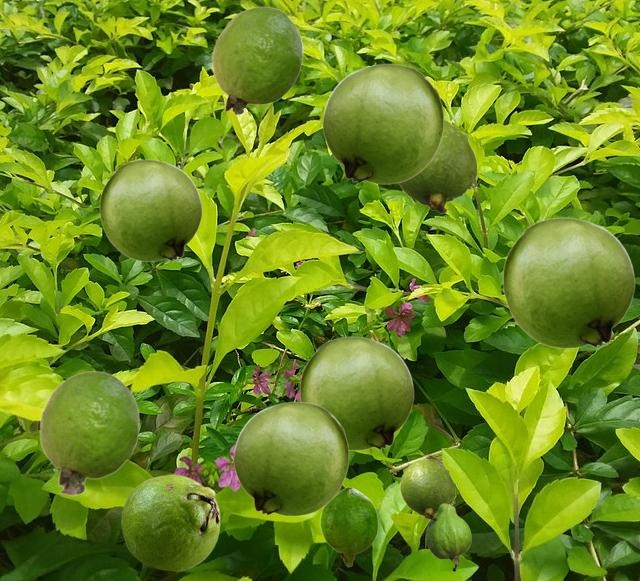guava: (502, 217, 634, 348), (322, 63, 443, 183), (233, 401, 348, 515), (299, 336, 413, 450), (39, 370, 139, 495), (99, 159, 201, 261), (212, 6, 302, 114), (121, 474, 219, 570), (398, 119, 476, 212), (320, 487, 377, 566), (400, 458, 454, 519), (425, 503, 470, 570)
